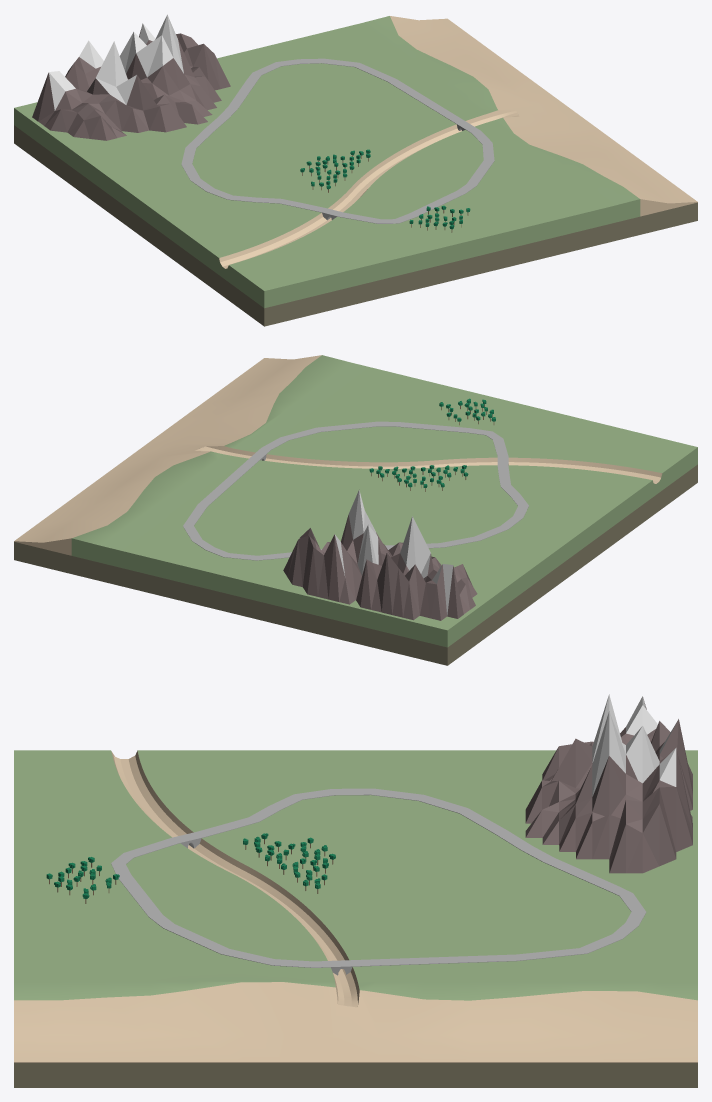
Rendered from Mapper4.fbx.
The picture shows the model from 3 angles, top to bottom: view 1: azimuth 30°, elevation 25°; view 2: azimuth 150°, elevation 25°; view 3: azimuth 270°, elevation 25°; orthographic projection. The views are drawn at different scales.
Visible parts, largest first — view 1: Mapper3; view 2: Mapper3; view 3: Mapper3.
Boxes of the visible parts, x1=… form: Mapper3: x1=14, y1=14, x2=697, y2=326; Mapper3: x1=14, y1=355, x2=697, y2=665; Mapper3: x1=14, y1=694, x2=697, y2=1087.
Size of the model in its own units: 23.74 by 6.45 by 23.74.
